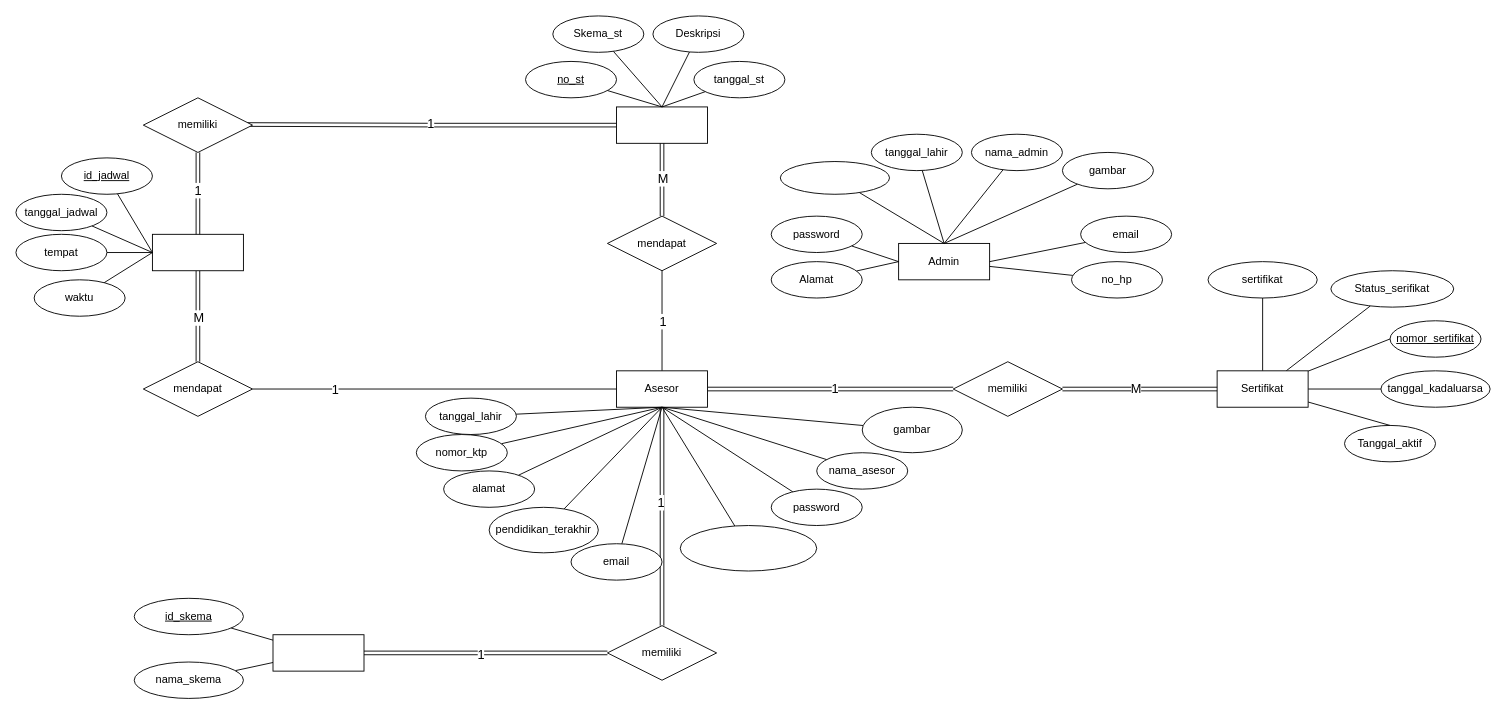
Some shapes in this 1506 by 714 pixel diagram are drawn without their labels. The shapes that lost their labels are listed below. From the top down, each one's centre as x and y in pixels, then its label:
At pixel 662 124: "Surat_Tugas".
At pixel 834 177: "no_induk_pegawai".
At pixel 197 252: "jadwal".
At pixel 748 548: "nomor_regristrasi _asesor".
At pixel 318 652: "skema".
